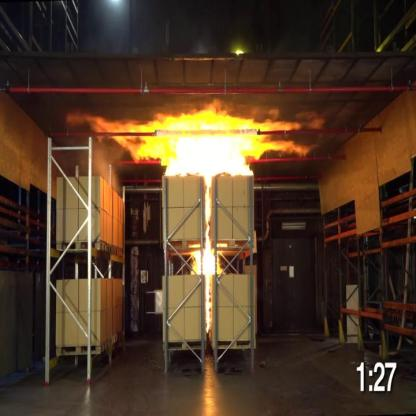fire: (82, 104, 316, 174), (189, 178, 222, 338)
